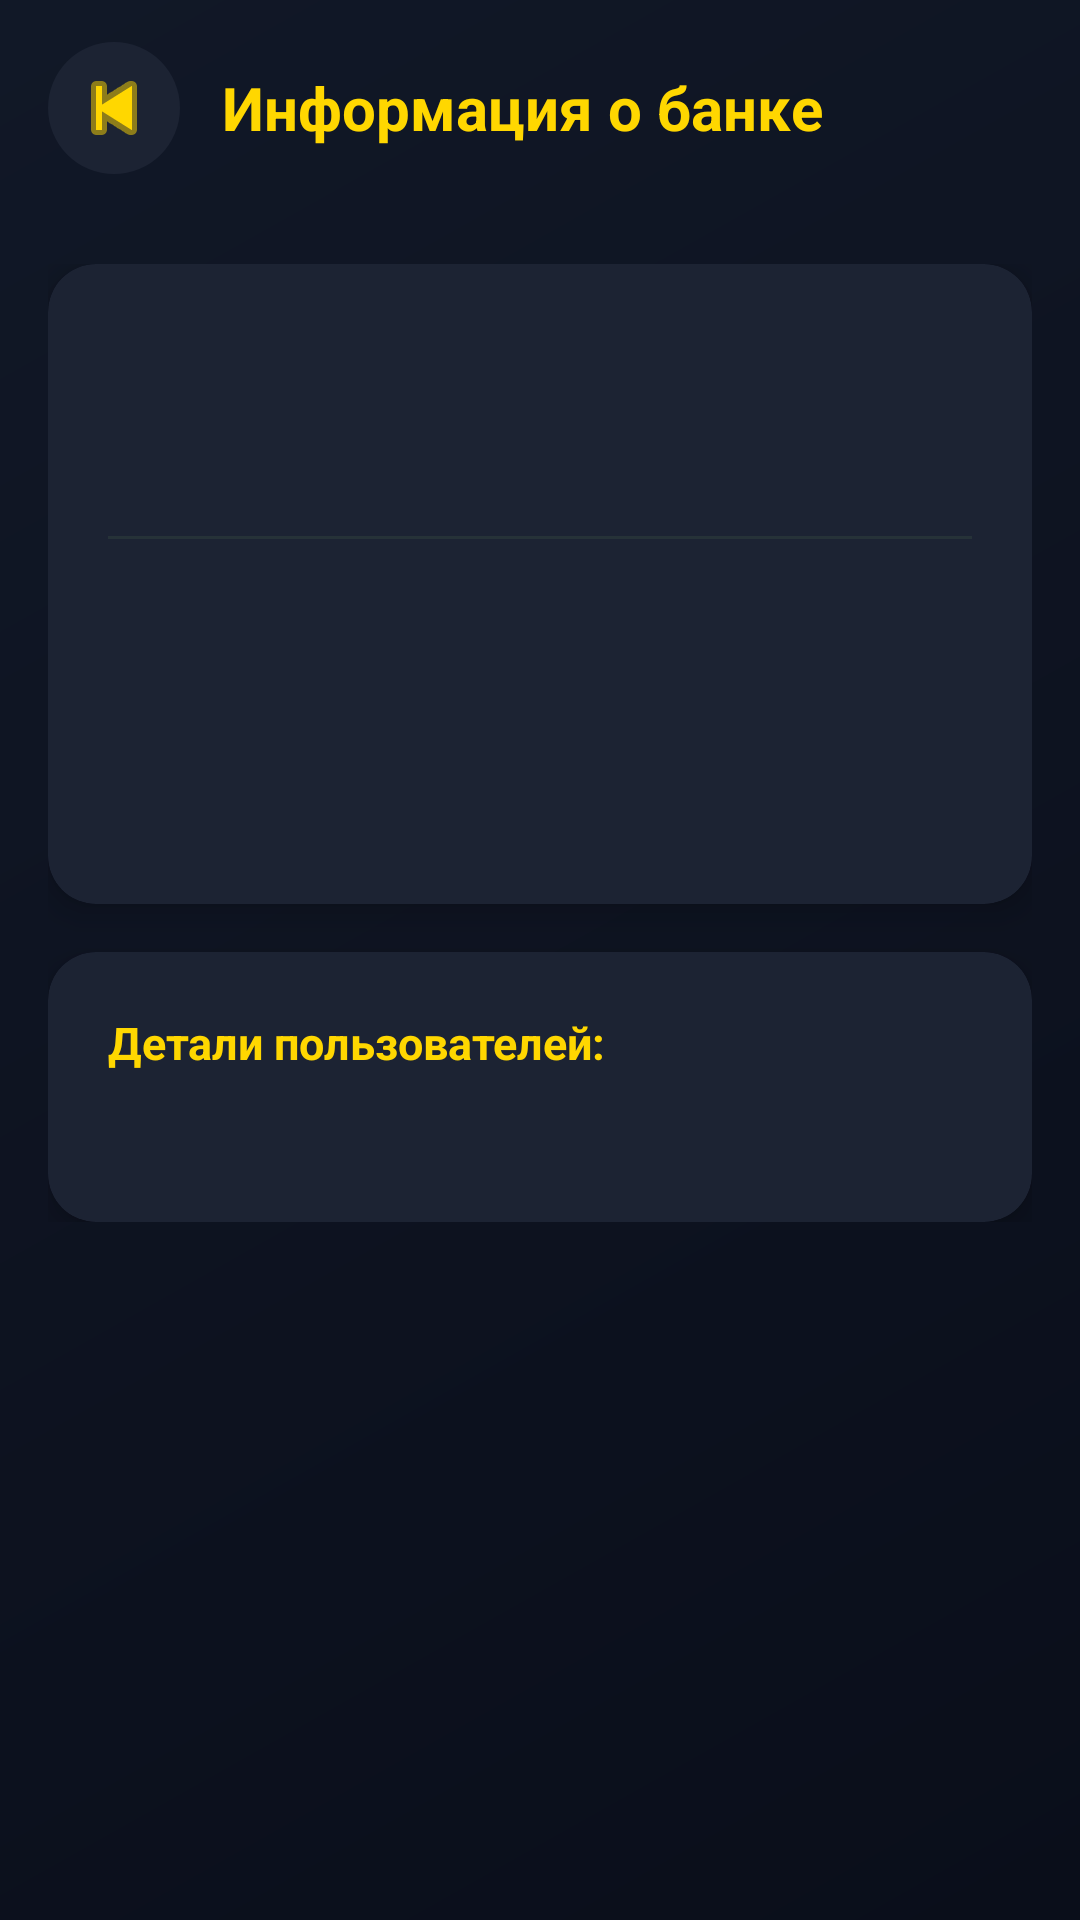

Icons on this 1080w x 1920h Android screen, each with the point to tap as (x=x, y=y):
Назад: (x=114, y=108)
